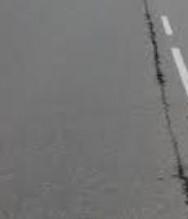crack: (141, 6, 178, 149), (163, 164, 188, 207)
